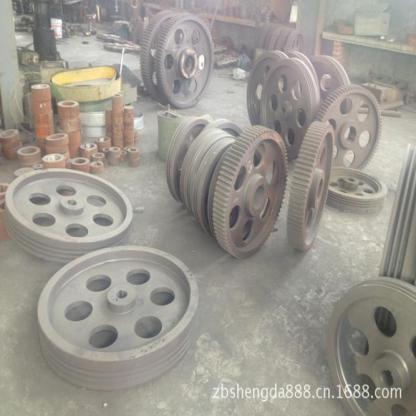FOD: (208, 126, 288, 263), (287, 115, 335, 254)
